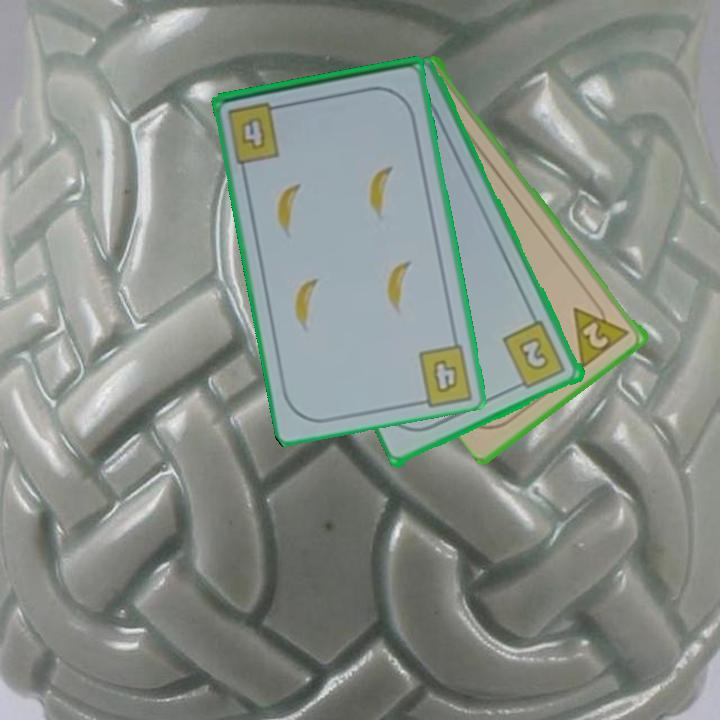2b: (500, 317, 569, 393)
2p: (569, 294, 633, 370)
4b: (224, 98, 288, 166), (429, 356, 462, 397)
